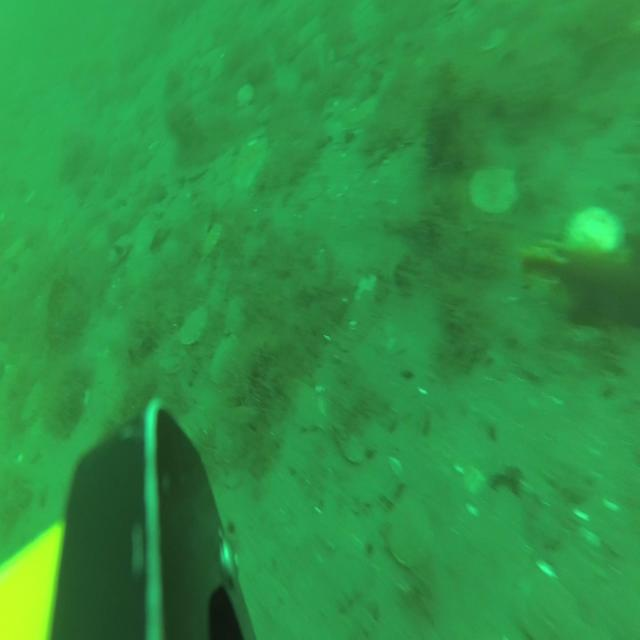scallop: (522, 572, 576, 640), (390, 495, 435, 569), (570, 204, 621, 259), (471, 164, 518, 217), (210, 334, 246, 392), (295, 386, 324, 431), (182, 305, 208, 347), (201, 220, 221, 262), (236, 83, 256, 111)
starfish: (234, 134, 266, 194)
